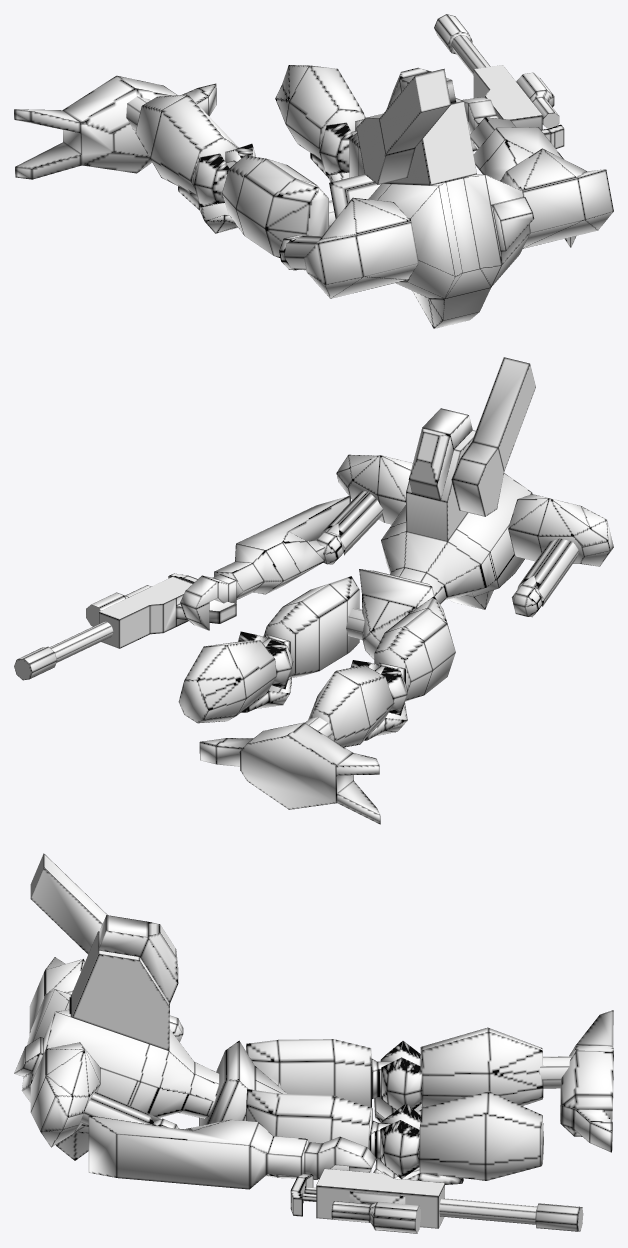
Rendered from sharpshooter_dead.obj.
The picture shows the model from 3 angles, top to bottom: view 1: azimuth 30°, elevation 25°; view 2: azimuth 150°, elevation 25°; view 3: azimuth 270°, elevation 25°; orthographic projection. The views are drawn at different scales.
Parts seen in each view (by area): view 1: thighl_sep43, thighl_sep33, thighl_sep39, thighl_sep30, thighl_sep47, thighl_sep44, thighl_sep31, thighl_sep11, thighl_sep45, thighl_sep27, thighl_sep25, thighl_sep35 (+11 smaller); view 2: thighl_sep33, thighl_sep43, thighl_sep44, thighl_sep27, thighl_sep11, thighl_sep14, thighl_sep39, thighl_sep30, thighl_sep31, thighl_sep25, thighl, thighl_sep42 (+12 smaller); view 3: thighl_sep27, thighl_sep43, thighl_sep11, thighl_sep31, thighl_sep45, thighl_sep30, thighl_sep33, thighl_sep14, thighl_sep47, thighl_sep25, thighl_sep44, thighl_sep42 (+15 smaller).
Part boxes in pixels (left/top/right/bottom): thighl_sep43: left=368, top=174, right=534, bottom=328; thighl_sep33: left=14, top=75, right=216, bottom=179; thighl_sep39: left=304, top=197, right=418, bottom=298; thighl_sep30: left=222, top=155, right=328, bottom=257; thighl_sep47: left=500, top=148, right=613, bottom=248; thighl_sep44: left=356, top=68, right=450, bottom=184; thighl_sep31: left=135, top=94, right=238, bottom=195; thighl_sep11: left=275, top=65, right=365, bottom=159; thighl_sep45: left=384, top=98, right=476, bottom=185; thighl_sep27: left=470, top=117, right=576, bottom=247; thighl_sep25: left=468, top=65, right=542, bottom=151; thighl_sep35: left=192, top=153, right=229, bottom=207; thighl_sep33: left=199, top=722, right=380, bottom=824; thighl_sep43: left=381, top=473, right=532, bottom=609; thighl_sep44: left=451, top=357, right=535, bottom=516; thighl_sep27: left=214, top=495, right=350, bottom=599; thighl_sep11: left=178, top=640, right=276, bottom=723; thighl_sep14: left=263, top=576, right=359, bottom=677; thighl_sep39: left=508, top=494, right=613, bottom=566; thighl_sep30: left=374, top=596, right=455, bottom=701; thighl_sep31: left=308, top=665, right=394, bottom=747; thighl_sep25: left=99, top=576, right=236, bottom=648; thighl: left=359, top=569, right=434, bottom=659; thighl_sep42: left=408, top=408, right=472, bottom=501; thighl_sep27: left=88, top=1115, right=308, bottom=1189; thighl_sep43: left=14, top=989, right=219, bottom=1160; thighl_sep11: left=419, top=1091, right=543, bottom=1180; thighl_sep31: left=420, top=1027, right=543, bottom=1108; thighl_sep45: left=71, top=931, right=169, bottom=1050; thighl_sep30: left=246, top=1039, right=371, bottom=1107; thighl_sep33: left=560, top=1010, right=613, bottom=1152; thighl_sep14: left=246, top=1089, right=372, bottom=1178; thighl_sep47: left=30, top=1042, right=100, bottom=1147; thighl_sep25: left=316, top=1165, right=444, bottom=1228; thighl_sep44: left=30, top=853, right=107, bottom=954; thighl_sep42: left=98, top=915, right=178, bottom=1003.
Bounding box in the file's own units: 48.43 × 31.29 × 58.78.
Materials: 2 (1 with a texture image).
